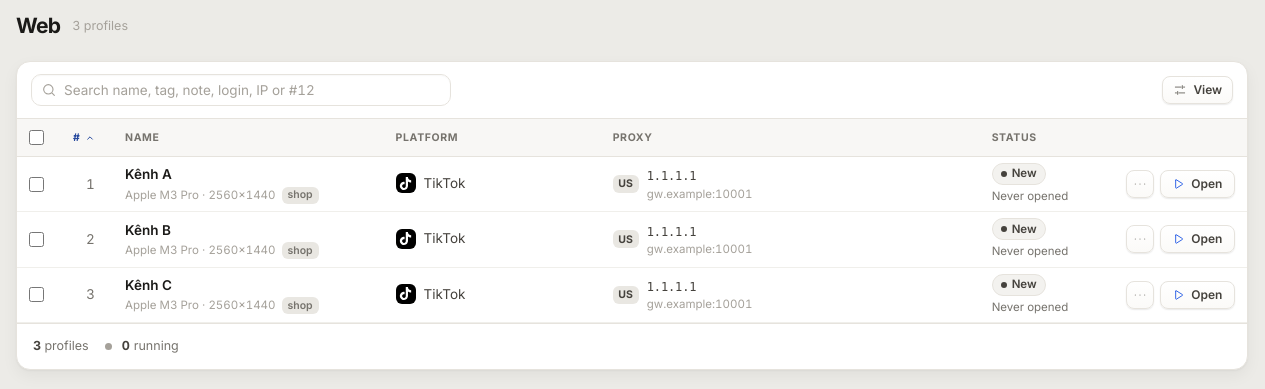
Scenario: profile drawer › filters running profiles from the status bar, and shows all again on a second click
Click the button "0 running": (142, 346) [97,332,187,360]
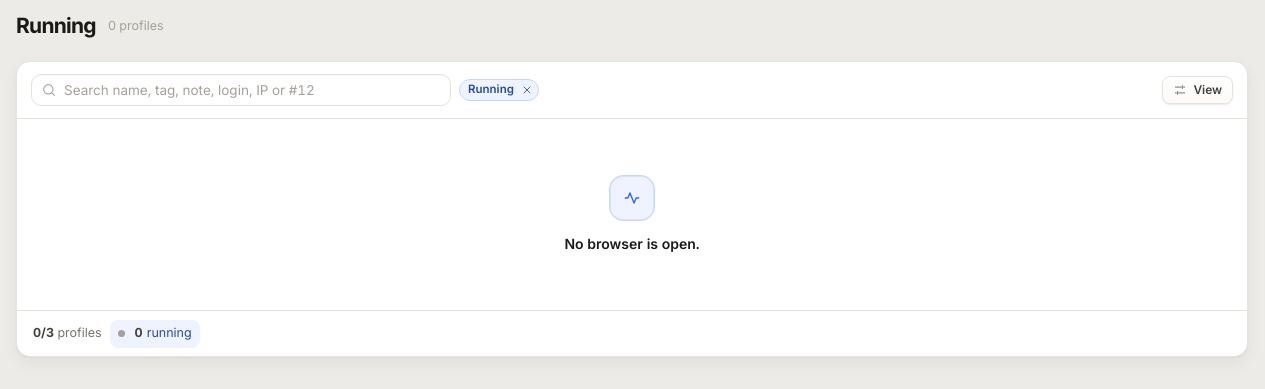
Check: the text "Kênh A" is gone
Click the button "0 running": (155, 334) [110,320,200,348]
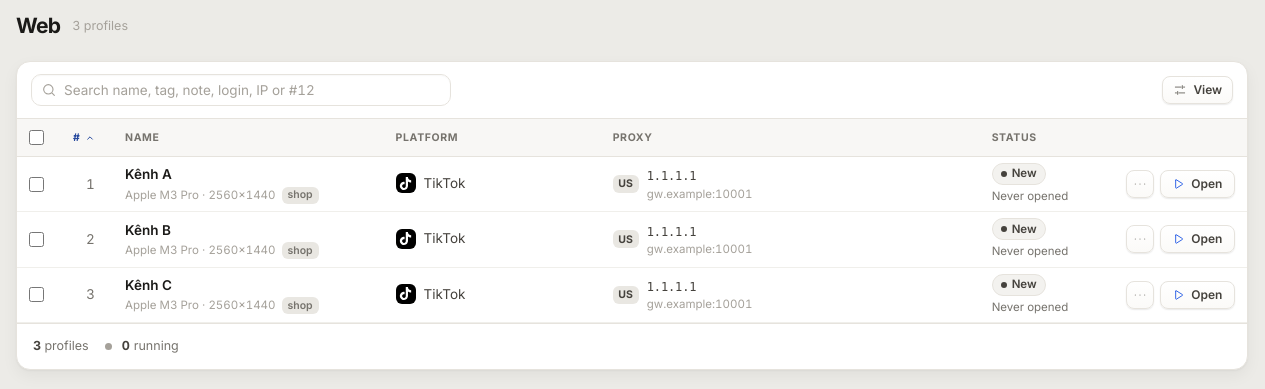
Check: the text "Kênh A" is shown, box [125,166,172,182]
